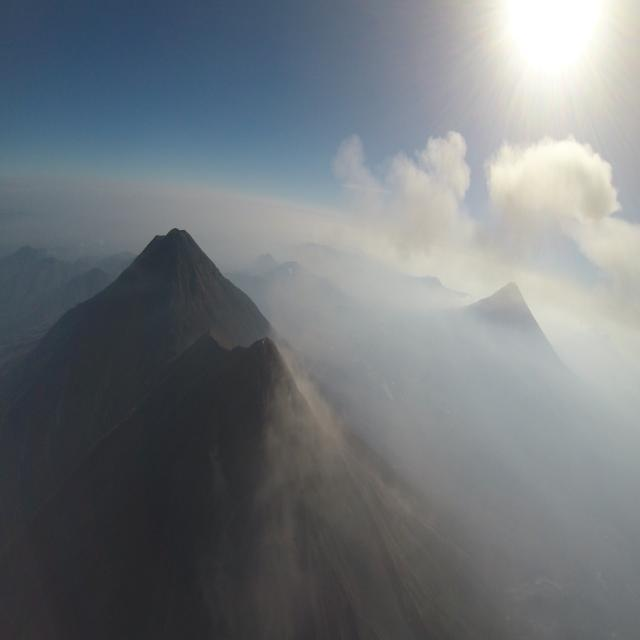Plume: (326, 126, 471, 264), (486, 130, 624, 243)
Summit: (226, 332, 318, 418)
